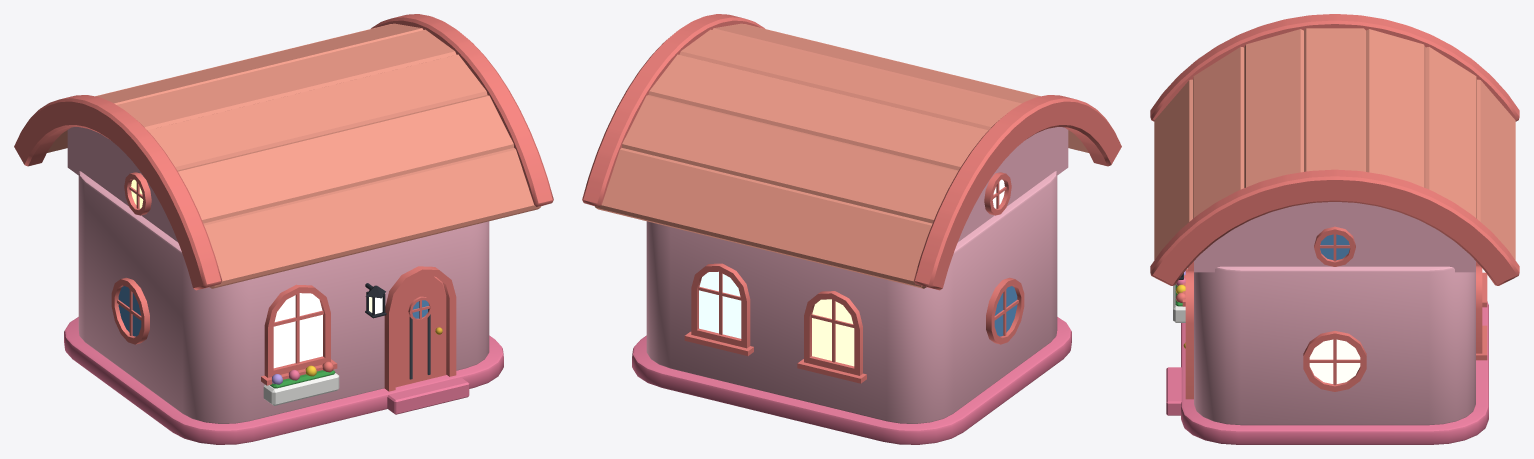
Rendered from casinha_arredondada_rosa.glb.
3 renders of one model, left to right at view 1: azimuth 30°, elevation 25°; view 2: azimuth 150°, elevation 25°; view 3: azimuth 270°, elevation 25°, orthographic. The views are drawn at different scales.
Visible parts, largest first — view 1: casinha_arredondada_rosa; view 2: casinha_arredondada_rosa; view 3: casinha_arredondada_rosa.
Boxes of the visible parts, <box> form: casinha_arredondada_rosa: <box>14,14,553,444</box>; casinha_arredondada_rosa: <box>582,14,1121,444</box>; casinha_arredondada_rosa: <box>1150,14,1519,444</box>.
Bounding box in the file's own units: 7.46 × 5.81 × 7.07.
Materials: 5 (1 with a texture image).
